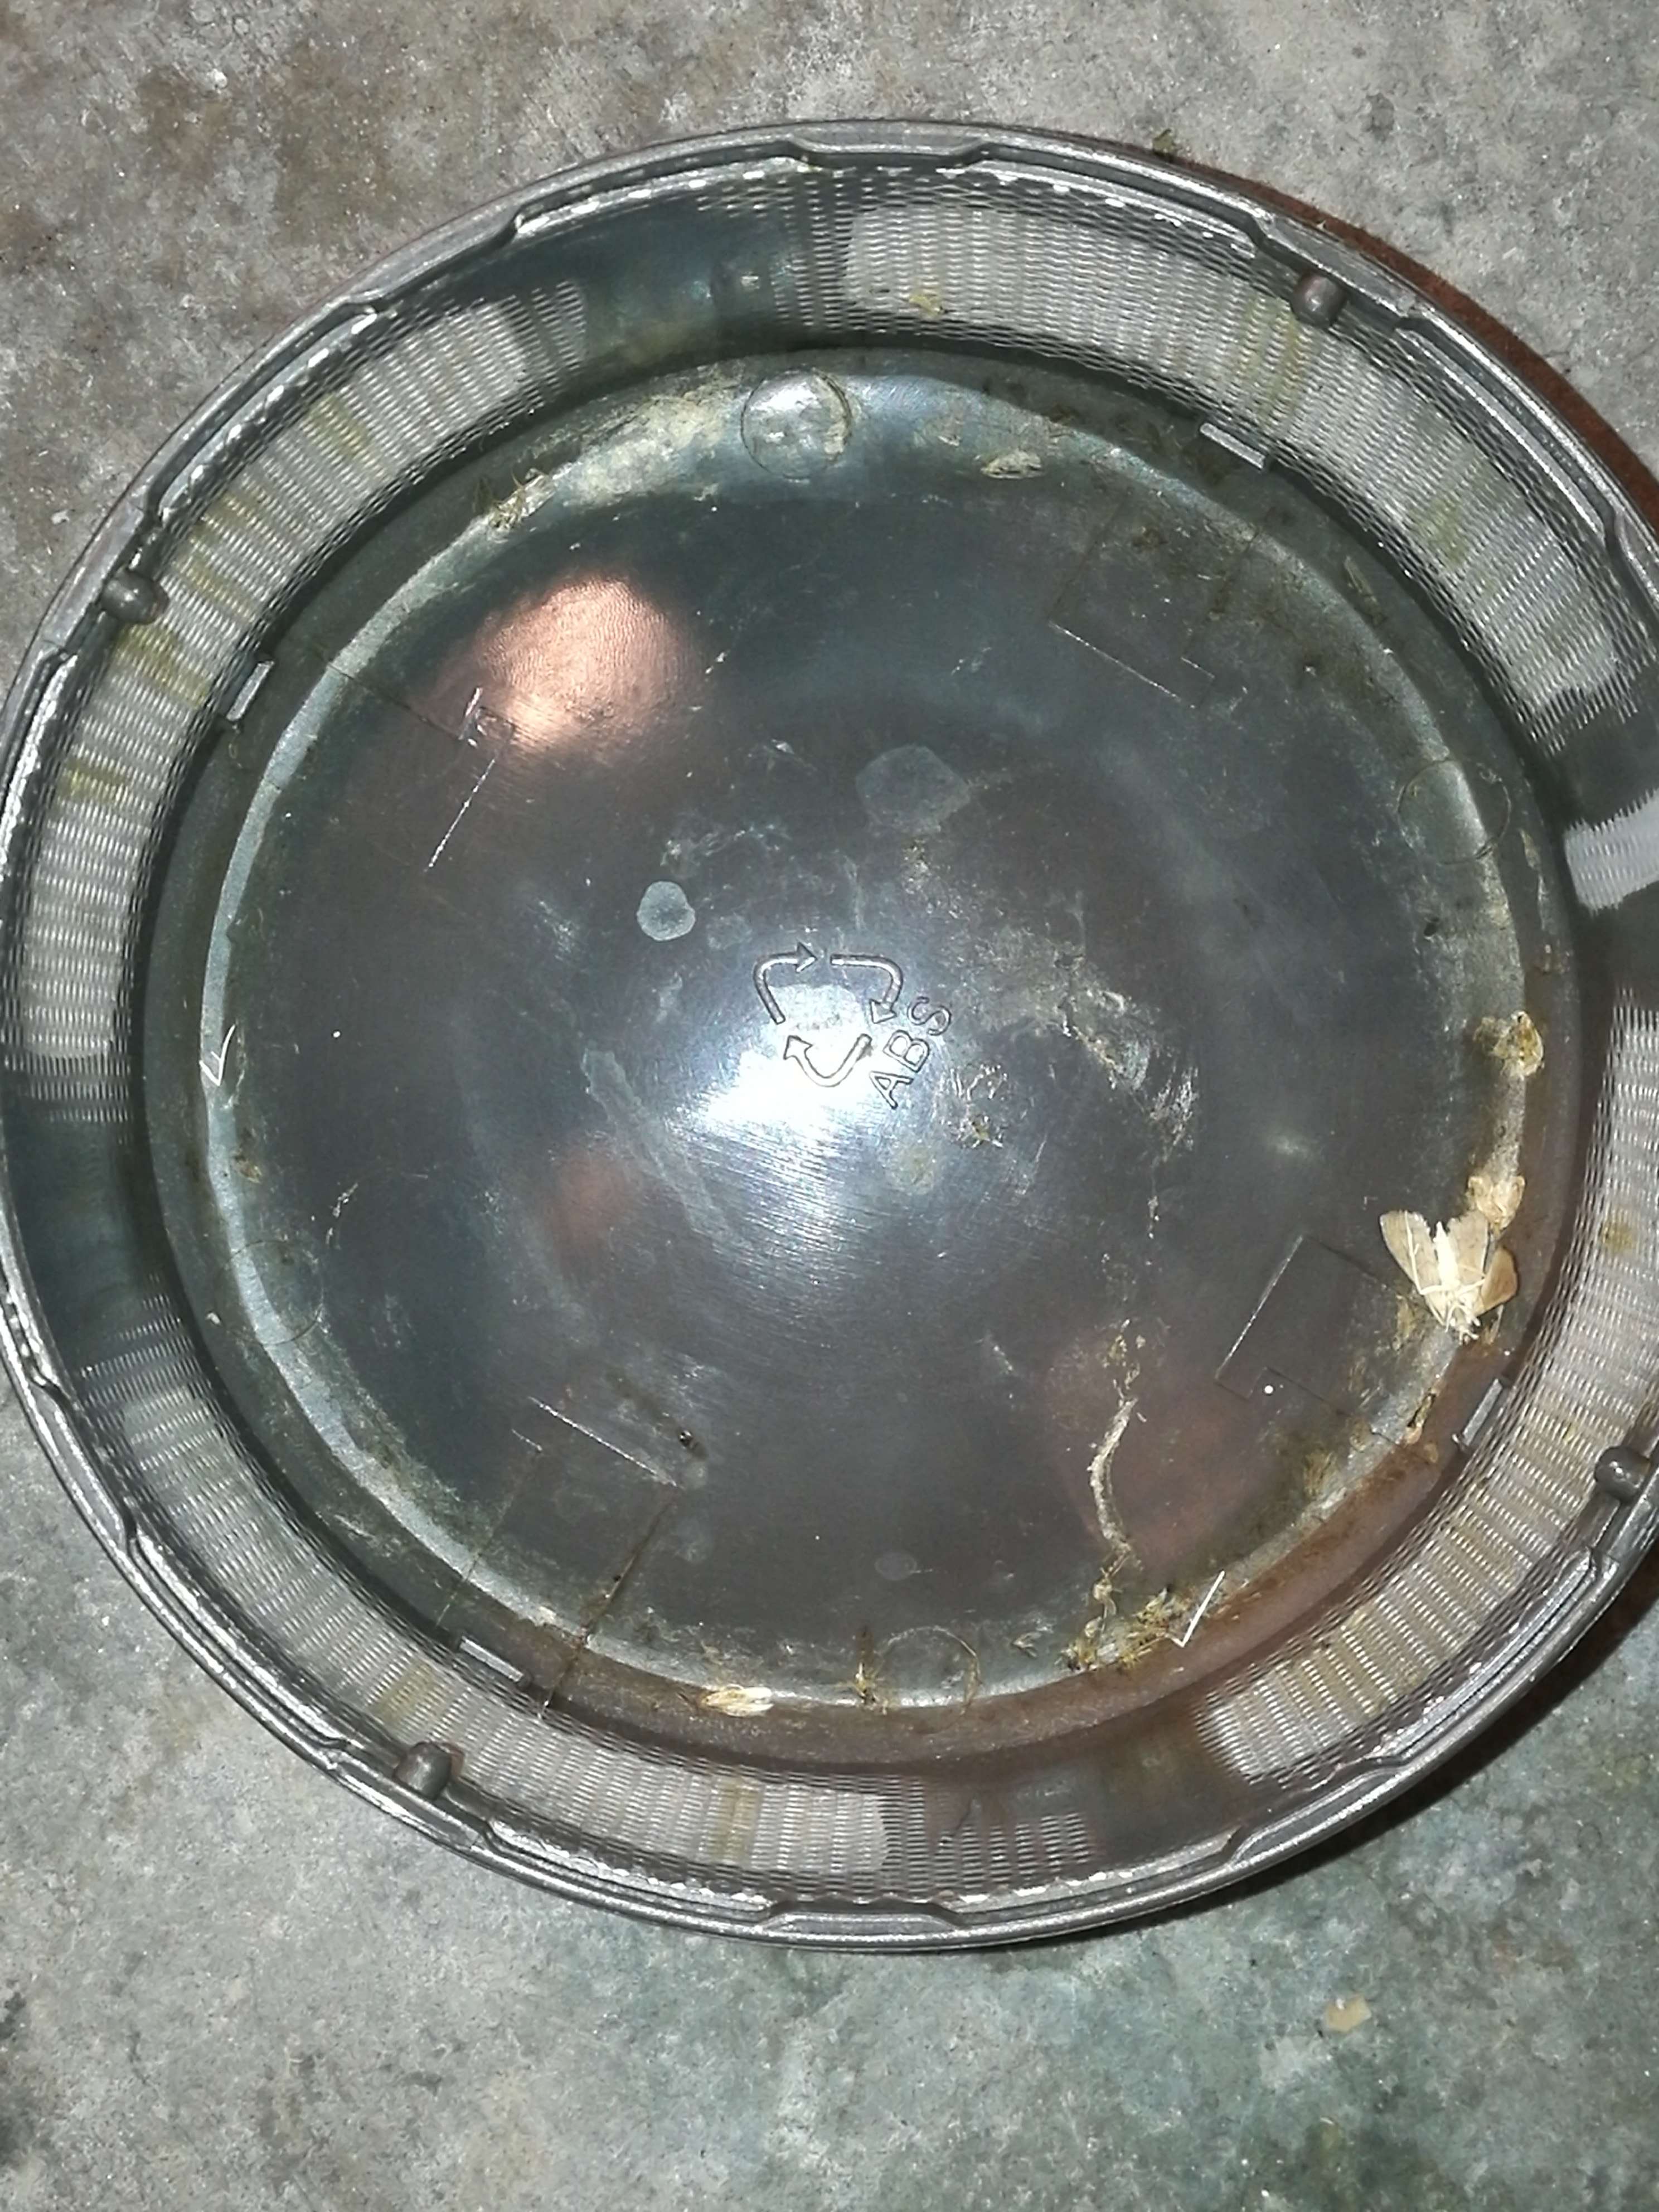mosquito: (701, 1686, 772, 1717), (981, 451, 1040, 479)
moth: (1378, 1209, 1518, 1343), (1086, 1611, 1150, 1665), (1469, 1176, 1525, 1228)
